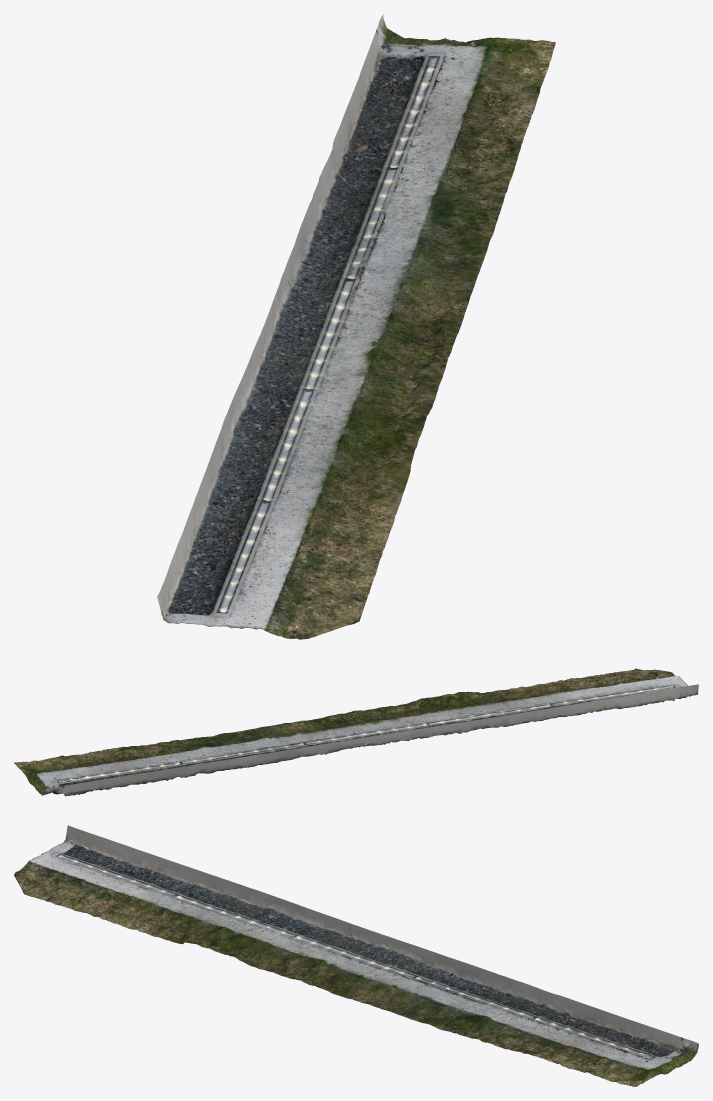
File: entrance_lights.obj
The picture shows the model from 3 angles, top to bottom: view 1: azimuth 30°, elevation 25°; view 2: azimuth 150°, elevation 25°; view 3: azimuth 270°, elevation 25°; orthographic projection. The views are drawn at different scales.
Visible parts, largest first — view 1: Object; view 2: Object; view 3: Object.
Boxes of the visible parts, bbox=[...] form: Object: bbox=[157, 14, 555, 639]; Object: bbox=[14, 668, 698, 796]; Object: bbox=[14, 825, 698, 1086].
Bounding box in the file's own units: 5.23 × 0.2197 × 6.01.
